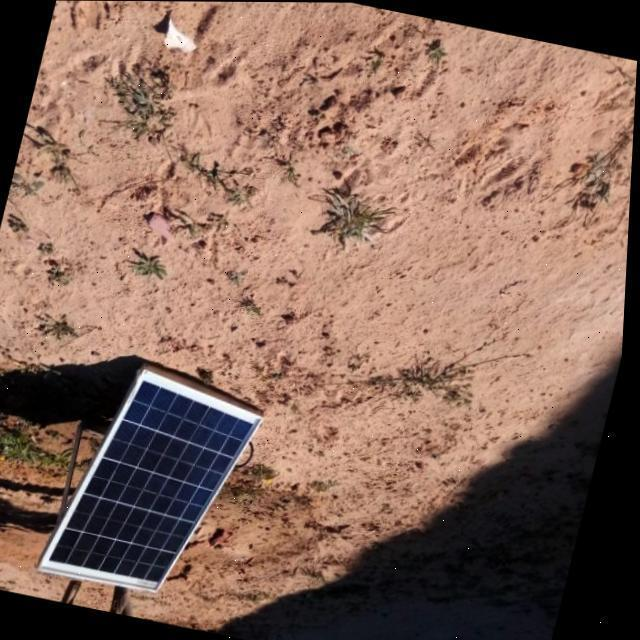Normal Solar Panel: (42, 357, 276, 605)
